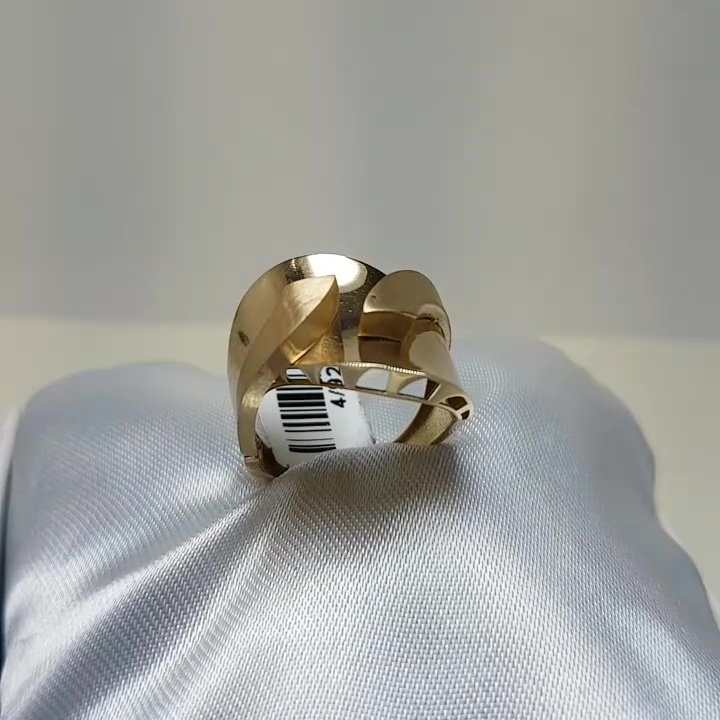Ring 4: (205, 237, 473, 504)
